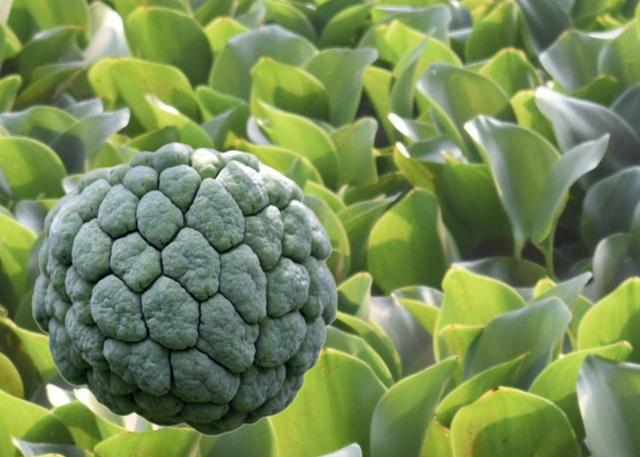atis: (31, 141, 337, 436)
